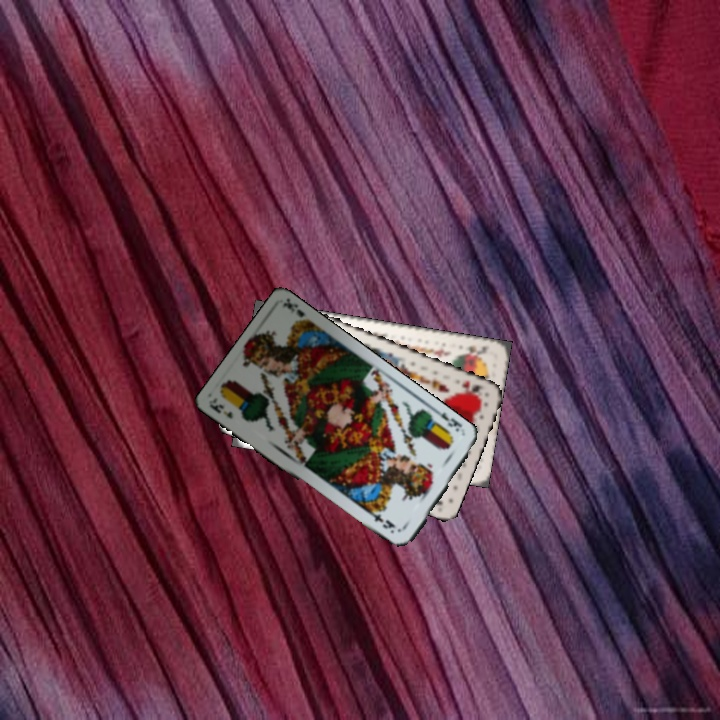EK: (435, 408, 468, 439), (207, 400, 235, 421)
HK: (457, 376, 485, 399)
SK: (456, 341, 490, 360)
